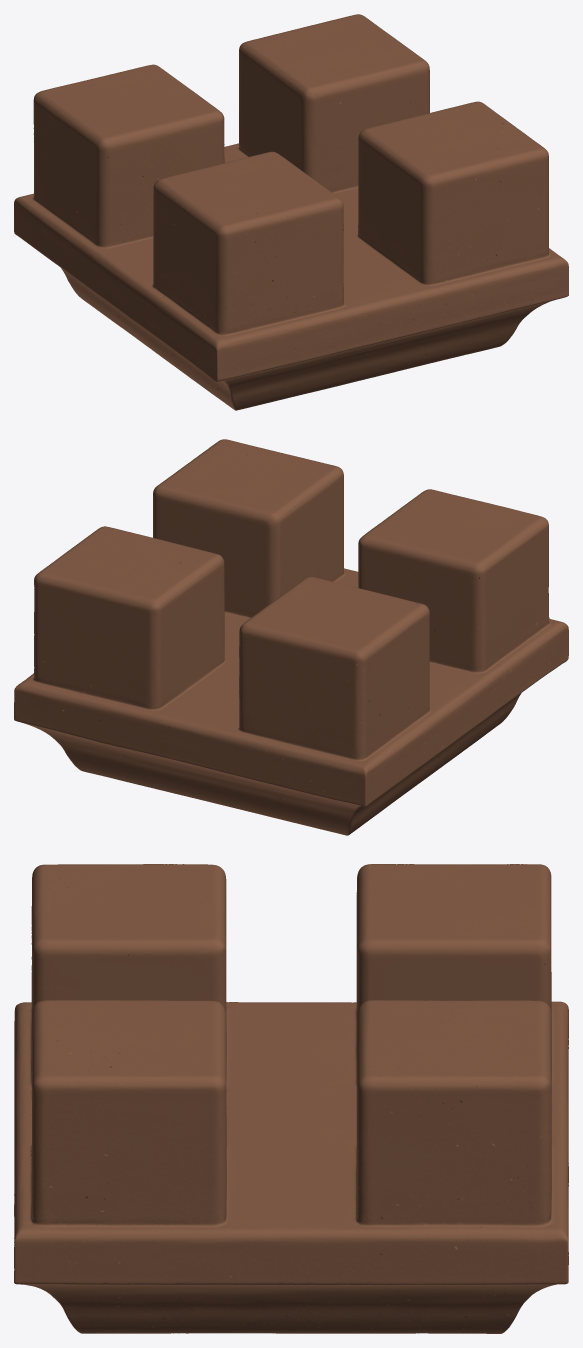
3 renders of one model, top to bottom at view 1: azimuth 30°, elevation 25°; view 2: azimuth 150°, elevation 25°; view 3: azimuth 270°, elevation 25°, orthographic. The views are drawn at different scales.
Parts seen in each view (by area): view 1: 大斗; view 2: 大斗; view 3: 大斗.
Part boxes in pixels (bbox=[...]): 大斗: bbox=[14, 14, 568, 410]; 大斗: bbox=[14, 439, 568, 835]; 大斗: bbox=[14, 864, 568, 1333].
Size of the model in its own units: 0.2152 by 0.1182 by 0.2152.
